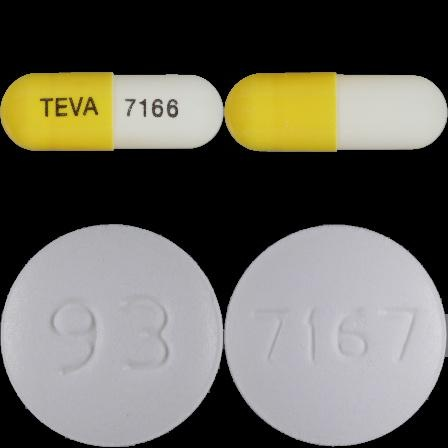0093-7166: (0, 0, 224, 224)
